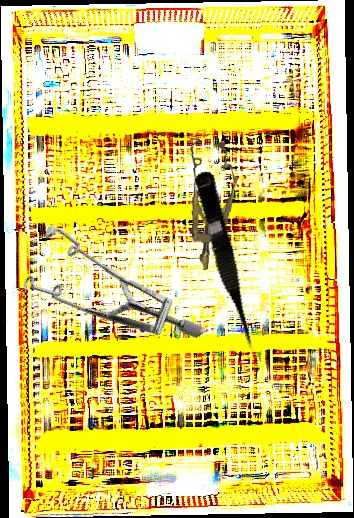Micro Scissor: (188, 169, 261, 355)
Speculum: (0, 185, 208, 403), (179, 137, 240, 272)
